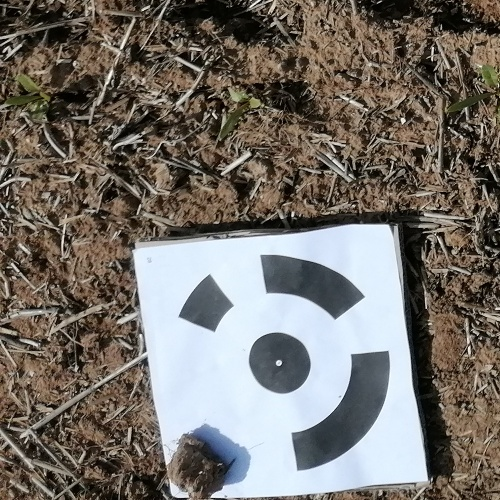beet: (445, 65, 500, 115), (3, 70, 53, 122), (218, 86, 263, 142)
